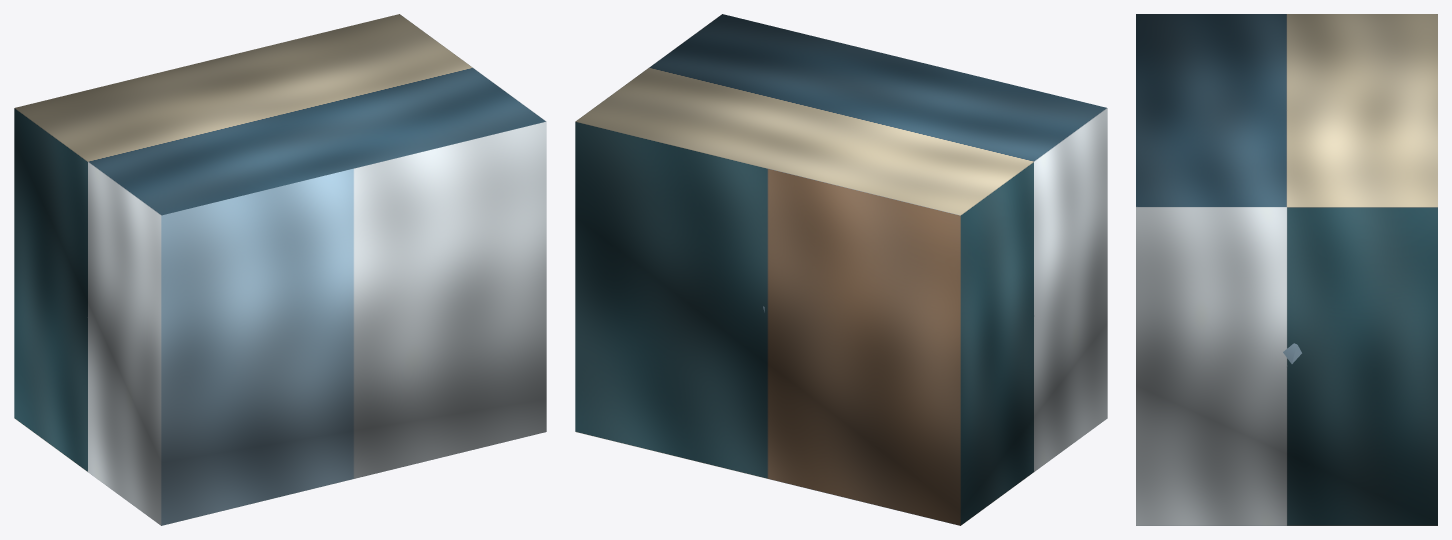
The model's file is rock_snow_c.glb.
The picture shows the model from 3 angles, left to right: view 1: azimuth 30°, elevation 25°; view 2: azimuth 150°, elevation 25°; view 3: azimuth 270°, elevation 25°; orthographic projection. The views are drawn at different scales.
Visible parts, largest first — view 1: col; view 2: col; view 3: col.
Part boxes in pixels (<box>): col: <box>14,14,546,525</box>; col: <box>575,14,1107,525</box>; col: <box>1136,14,1437,525</box>.
Size of the model in its own units: 2.54 by 1.95 by 1.67.
Materials: 1 (1 with a texture image).
